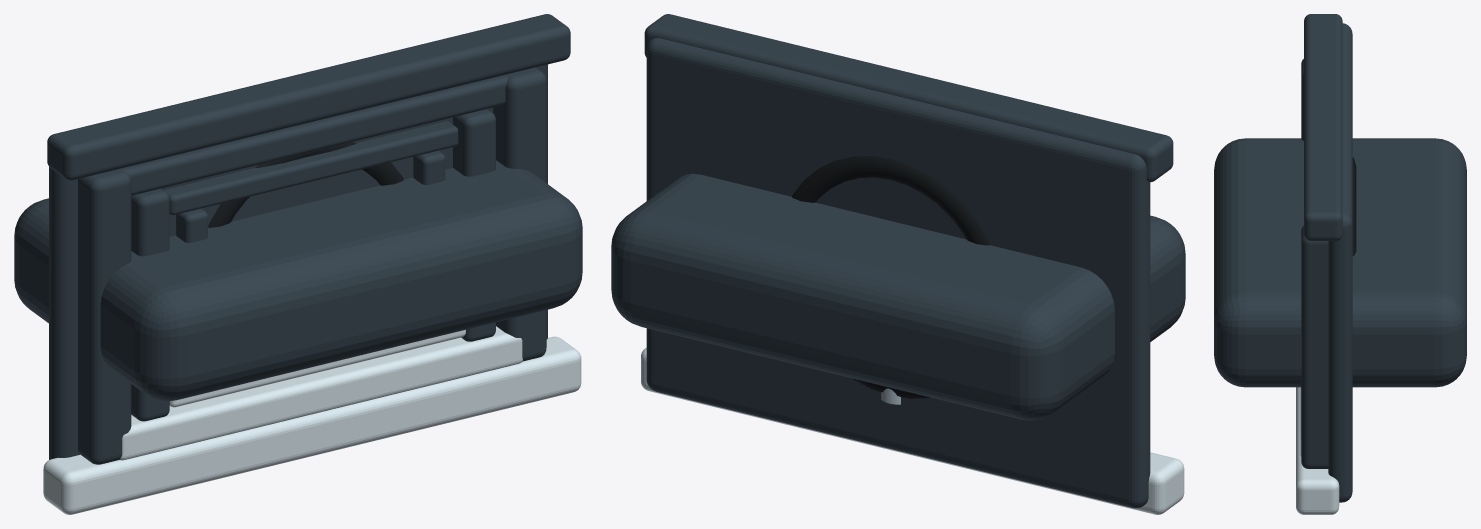
Rendered from body_10.glb.
The picture shows the model from 3 angles, left to right: view 1: azimuth 30°, elevation 25°; view 2: azimuth 150°, elevation 25°; view 3: azimuth 270°, elevation 25°; orthographic projection. The views are drawn at different scales.
Parts seen in each view (by area): view 1: asset_mesh__body_0539__reference_body, asset_mesh__body_0530__lower_flange, asset_mesh__body_0530__upper_flange, asset_mesh__body_0526__upper_flange, asset_mesh__body_0530__stamped_sheet, asset_mesh__body_0530__left_reinforcement, asset_mesh__body_0526__lower_flange, asset_mesh__body_0531__lower_flange, asset_mesh__body_0530__right_reinforcement, asset_mesh__body_0526__left_reinforcement, asset_mesh__body_0526__right_reinforcement, asset_mesh__body_0531__upper_flange (+3 smaller); view 2: asset_mesh__body_0530__stamped_sheet, asset_mesh__body_0539__reference_body, asset_mesh__body_0530__lower_flange, asset_mesh__body_0563__service_element, asset_mesh__body_0530__upper_flange; view 3: asset_mesh__body_0539__reference_body, asset_mesh__body_0530__lower_flange, asset_mesh__body_0530__stamped_sheet, asset_mesh__body_0530__right_reinforcement, asset_mesh__body_0530__upper_flange, asset_mesh__body_0563__service_element.
Boxes of the visible parts, box(x1,y1,x2,y2) form: asset_mesh__body_0539__reference_body: box(14, 160, 582, 401); asset_mesh__body_0530__lower_flange: box(47, 14, 570, 180); asset_mesh__body_0530__upper_flange: box(43, 336, 581, 514); asset_mesh__body_0526__upper_flange: box(119, 326, 522, 460); asset_mesh__body_0530__stamped_sheet: box(49, 64, 547, 459); asset_mesh__body_0530__left_reinforcement: box(78, 169, 131, 464); asset_mesh__body_0526__lower_flange: box(119, 74, 508, 195); asset_mesh__body_0531__lower_flange: box(164, 121, 458, 215); asset_mesh__body_0530__right_reinforcement: box(493, 67, 546, 361); asset_mesh__body_0526__left_reinforcement: box(131, 188, 169, 421); asset_mesh__body_0526__right_reinforcement: box(453, 109, 495, 341); asset_mesh__body_0531__upper_flange: box(169, 329, 465, 407); asset_mesh__body_0530__stamped_sheet: box(646, 37, 1150, 508); asset_mesh__body_0539__reference_body: box(611, 173, 1185, 420); asset_mesh__body_0530__lower_flange: box(644, 14, 1173, 182); asset_mesh__body_0563__service_element: box(792, 156, 989, 398); asset_mesh__body_0530__upper_flange: box(641, 348, 1184, 514); asset_mesh__body_0539__reference_body: box(1214, 138, 1466, 387); asset_mesh__body_0530__lower_flange: box(1304, 14, 1342, 240); asset_mesh__body_0530__stamped_sheet: box(1328, 23, 1352, 502); asset_mesh__body_0530__right_reinforcement: box(1301, 225, 1328, 468); asset_mesh__body_0530__upper_flange: box(1296, 387, 1339, 514); asset_mesh__body_0563__service_element: box(1352, 157, 1356, 255).
Bounding box in the file's own units: 1.72 × 1.15 × 0.882.
